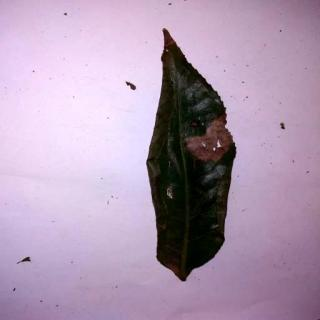Anthracnose: (146, 30, 235, 280)
